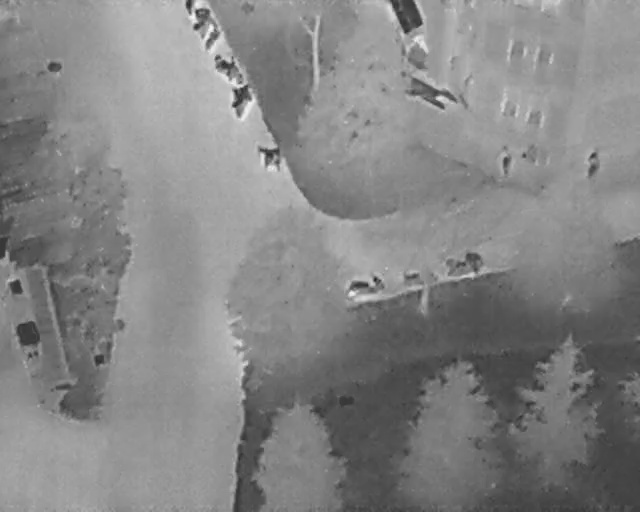Bicycle: (205, 45, 254, 91), (440, 247, 488, 281), (342, 271, 388, 303), (227, 82, 256, 122), (188, 5, 215, 41), (197, 20, 225, 54), (258, 143, 282, 172), (401, 267, 423, 285), (183, 0, 194, 16)
